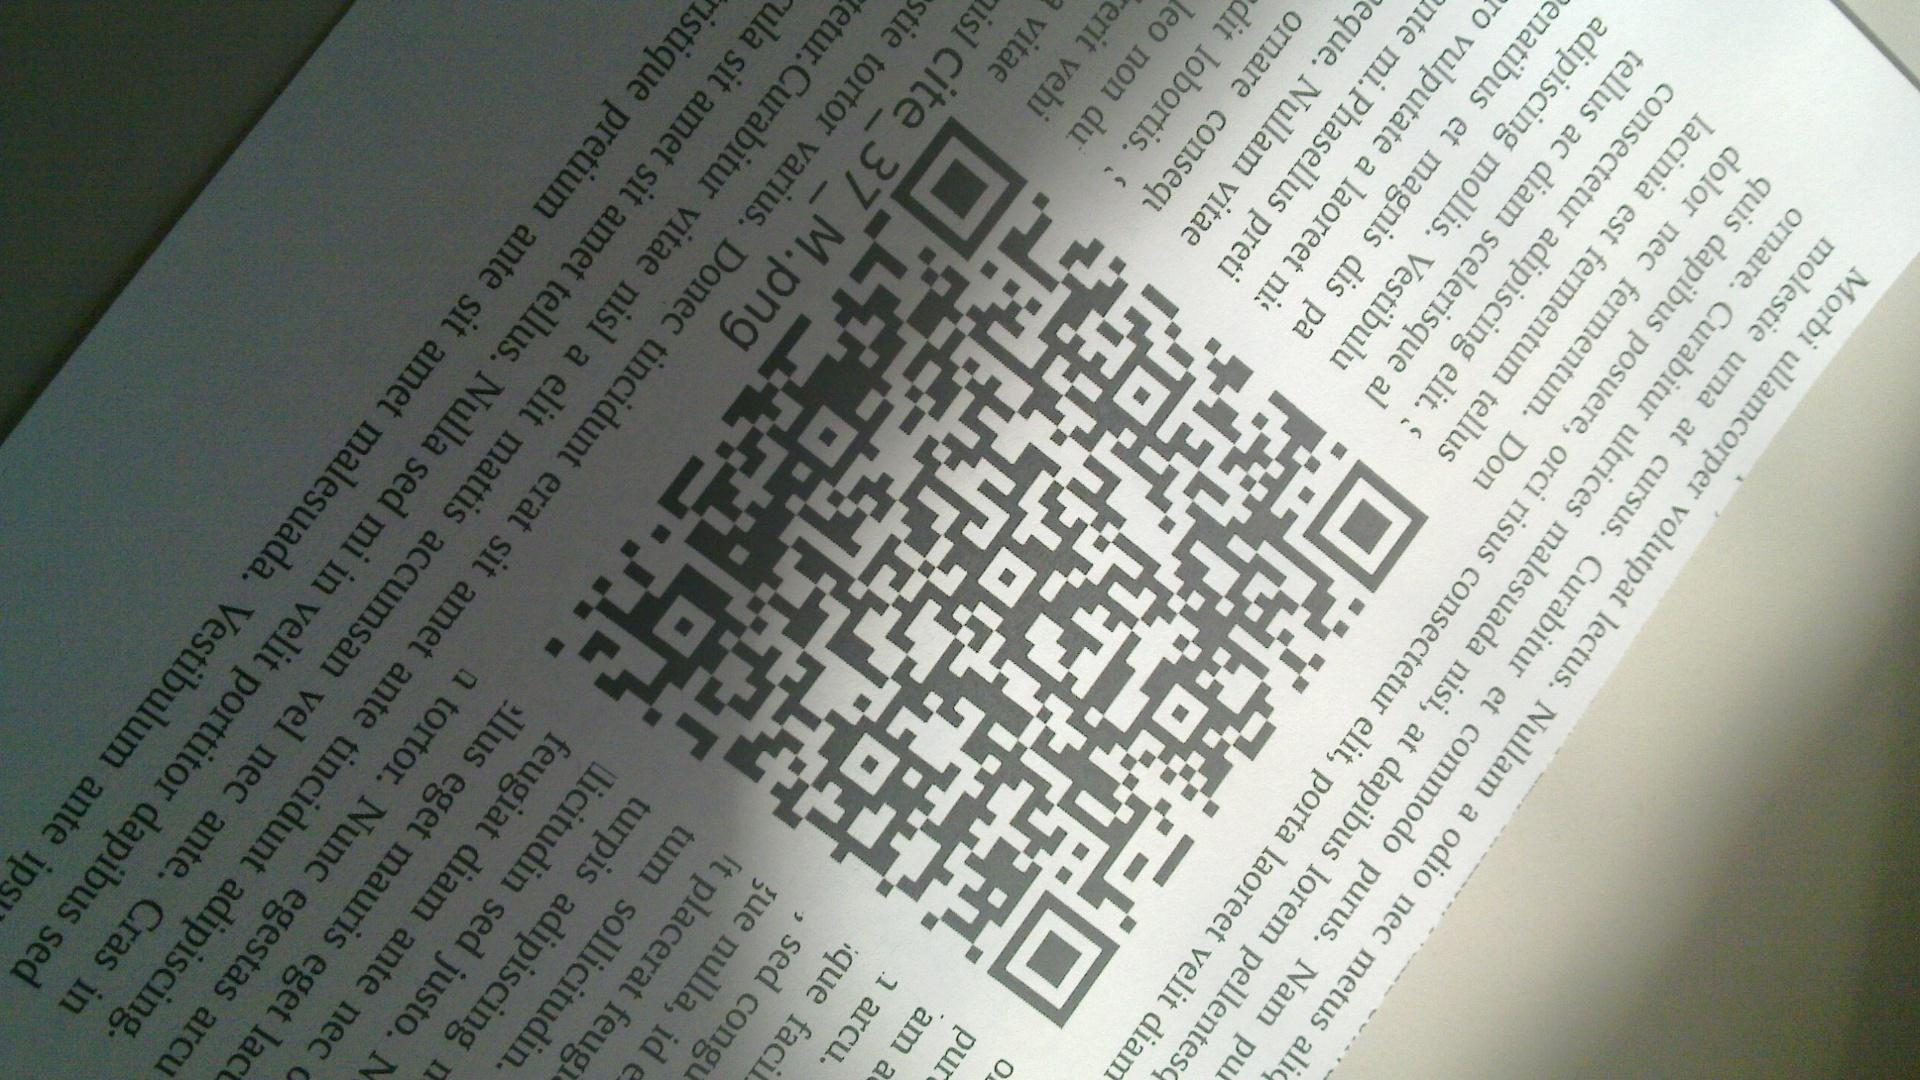qr_code: (541, 115, 1431, 1026)
